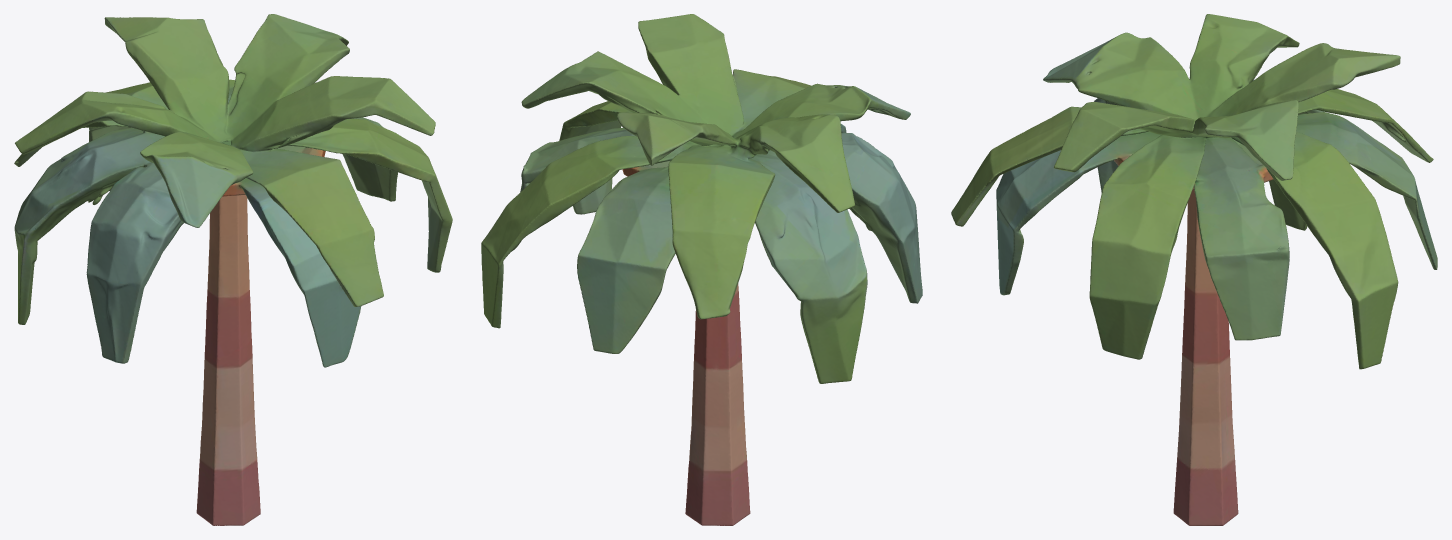
The model's file is palm_tree.glb.
3 views of the same model, side by side, from view 1: azimuth 30°, elevation 25°; view 2: azimuth 150°, elevation 25°; view 3: azimuth 270°, elevation 25° (orthographic). The views are drawn at different scales.
Parts seen in each view (by area): view 1: tripo_node_14100369-093a-43f9-a707-ec0ca33697d1; view 2: tripo_node_14100369-093a-43f9-a707-ec0ca33697d1; view 3: tripo_node_14100369-093a-43f9-a707-ec0ca33697d1.
Boxes of the visible parts, x1,y1,x2,y2 form: tripo_node_14100369-093a-43f9-a707-ec0ca33697d1: [14, 14, 452, 525]; tripo_node_14100369-093a-43f9-a707-ec0ca33697d1: [481, 14, 922, 525]; tripo_node_14100369-093a-43f9-a707-ec0ca33697d1: [951, 14, 1437, 525].
Size of the model in its own units: 0.8497 by 1 by 0.9635.
Materials: 1 (1 with a texture image).
